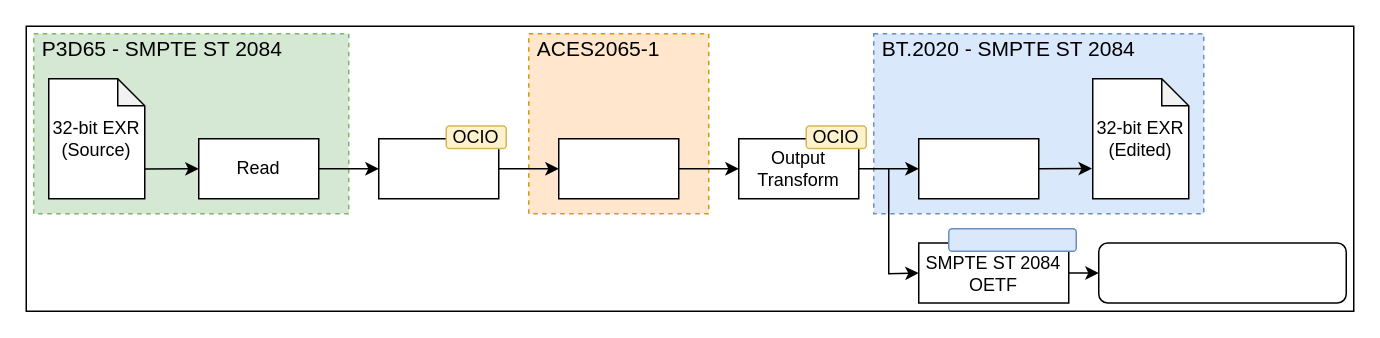
Image size: 1380x338. Some labels were removed from this diagram. The shapes that lost their labels are listed below. From the top down, each one's centre as x and y in pixels, then its label:
the point at 438,168: Input Transform
the point at 618,168: ColorCorrect
the point at 978,168: Write
the point at 1011,239: Affinity Photo 2
the point at 1221,272: Monitor or TV (BT.2020 - SMPTE ST 2084)
